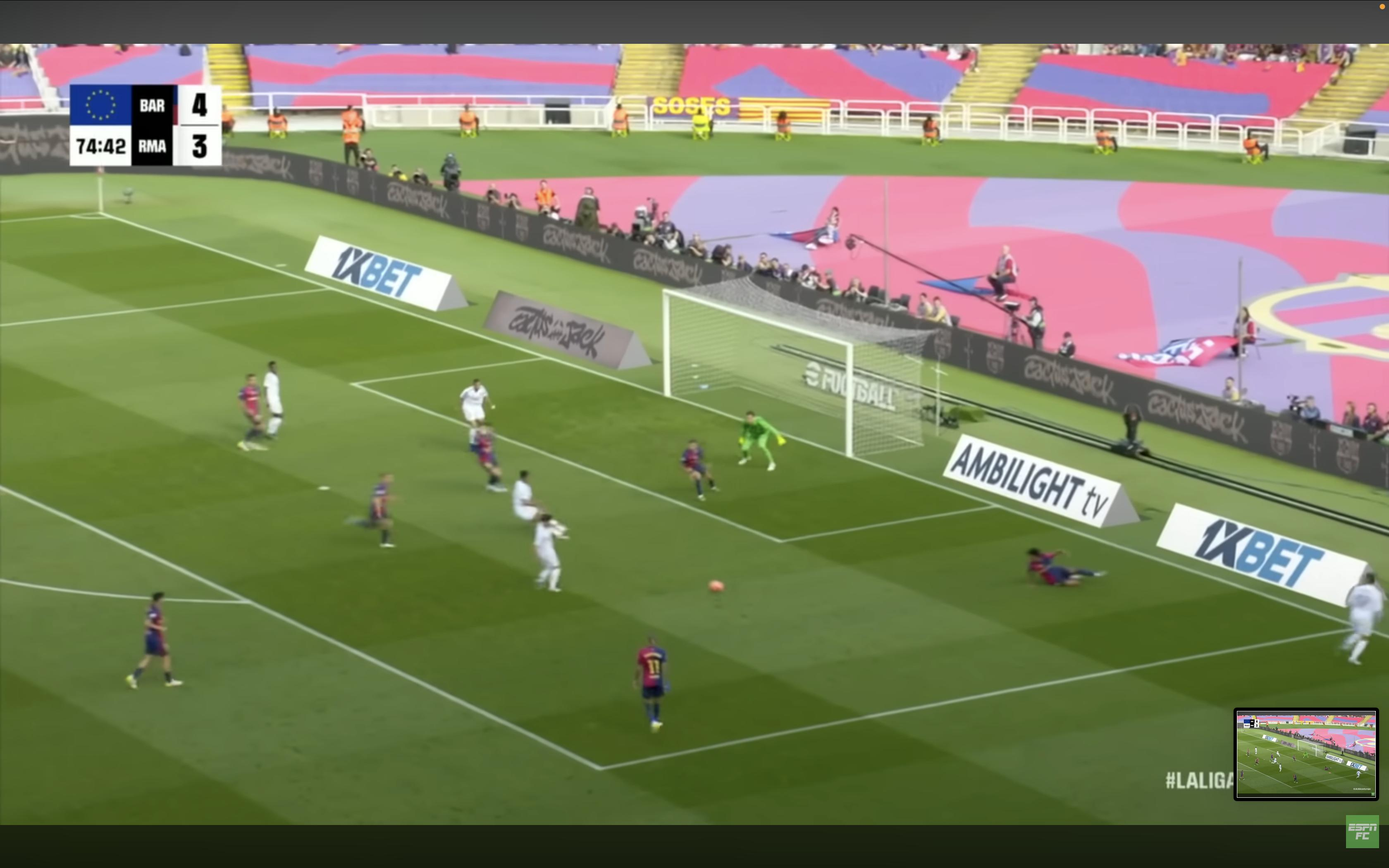ball: (708, 579, 725, 593)
goalkeeper: (739, 411, 785, 470)
player: (126, 592, 181, 689), (1341, 572, 1384, 665), (348, 473, 394, 548), (634, 637, 668, 732), (1028, 548, 1104, 586), (533, 513, 567, 592), (460, 379, 495, 451), (473, 425, 507, 492), (681, 441, 718, 501), (238, 375, 265, 451), (263, 361, 283, 439), (512, 470, 542, 522)
